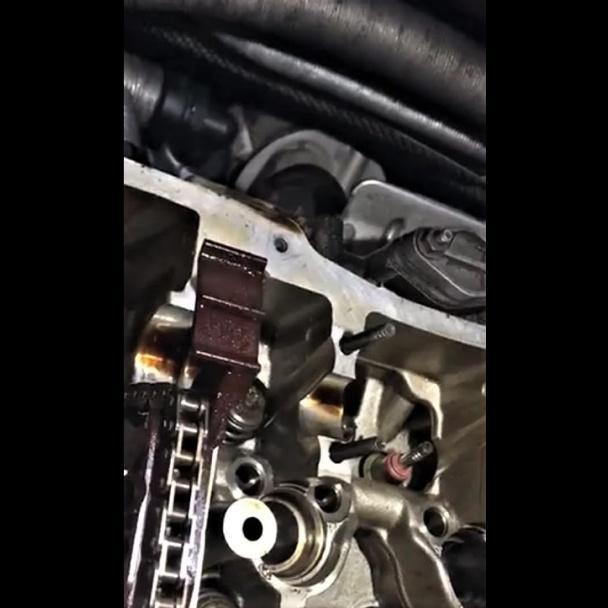hole: (272, 237, 288, 253)
